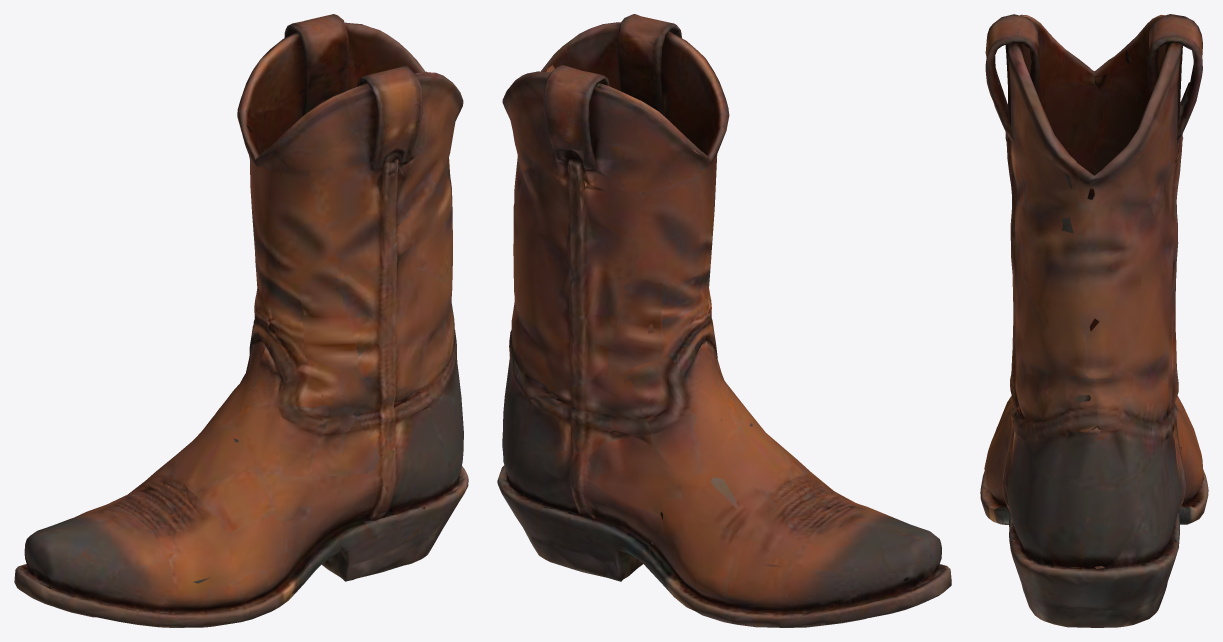
3 views of the same model, side by side, from view 1: azimuth 30°, elevation 25°; view 2: azimuth 150°, elevation 25°; view 3: azimuth 270°, elevation 25° (orthographic). The views are drawn at different scales.
Bounding box in the file's own units: 1.72 × 1.9 × 0.6946.
Materials: 1 (1 with a texture image).
